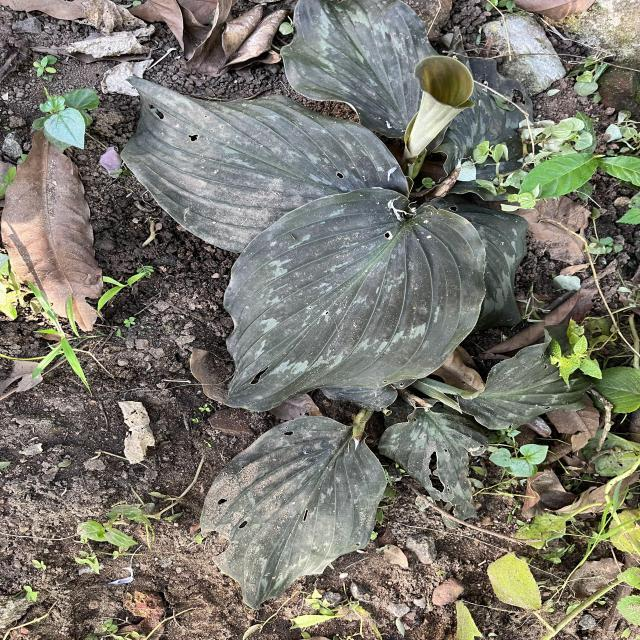Kaempferia galanga linn: (220, 185, 489, 414), (119, 70, 411, 254), (198, 412, 389, 612), (278, 0, 441, 140)
